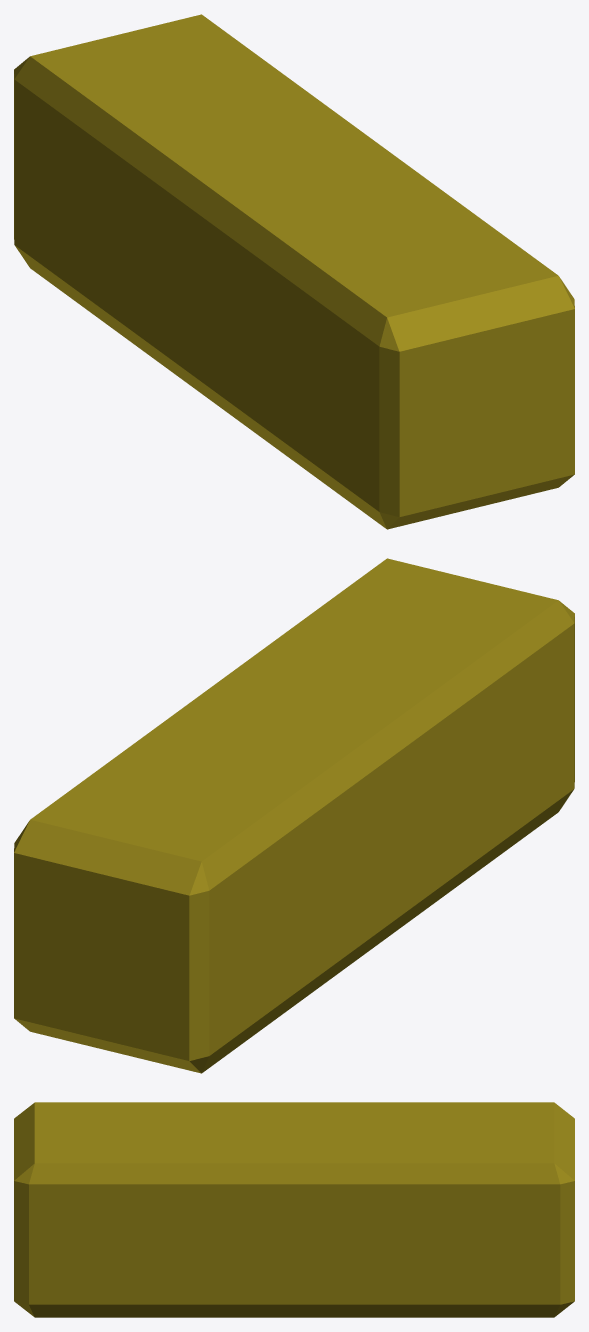
The model's file is BloqueAmarillo.fbx.
The picture shows the model from 3 angles, top to bottom: view 1: azimuth 30°, elevation 25°; view 2: azimuth 150°, elevation 25°; view 3: azimuth 270°, elevation 25°; orthographic projection. The views are drawn at different scales.
Parts seen in each view (by area): view 1: Cube; view 2: Cube; view 3: Cube.
Boxes of the visible parts, x1,y1,x2,y2 form: Cube: (14, 14, 574, 529); Cube: (14, 558, 574, 1073); Cube: (14, 1102, 574, 1317).
Bounding box in the file's own units: 111 × 115 × 380.
